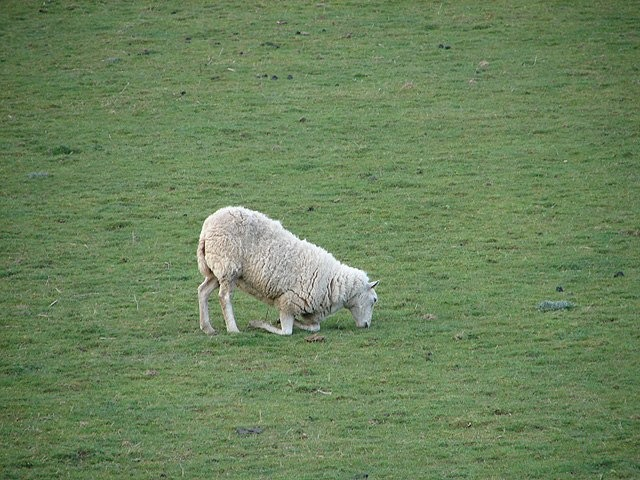grazing: (198, 204, 380, 331)
